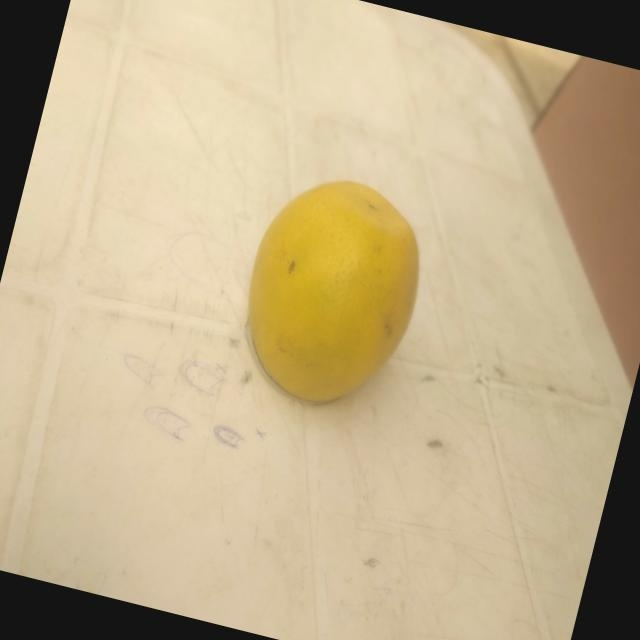agrume: (221, 159, 442, 425)
